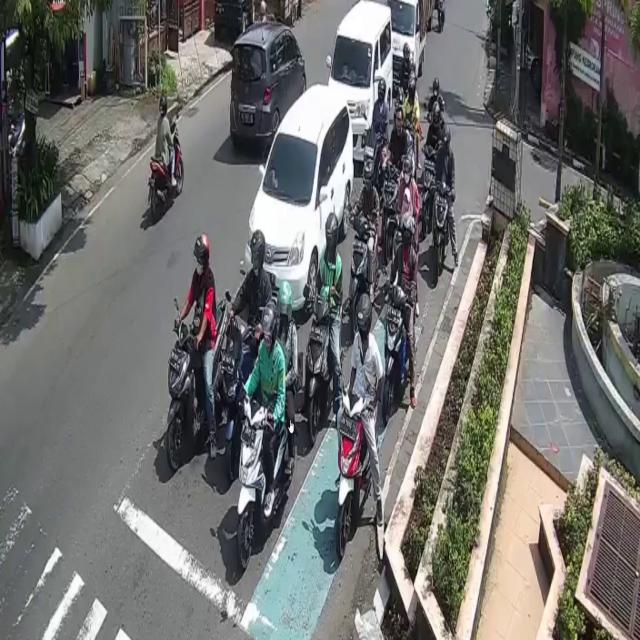bus: (163, 297, 234, 474), (237, 396, 290, 568), (337, 387, 372, 555), (305, 298, 333, 447), (383, 290, 412, 429), (150, 120, 184, 221), (352, 213, 377, 304), (434, 184, 453, 276)
motorcycle: (243, 81, 354, 319), (329, 0, 394, 162), (230, 24, 306, 143), (388, 0, 427, 85)
